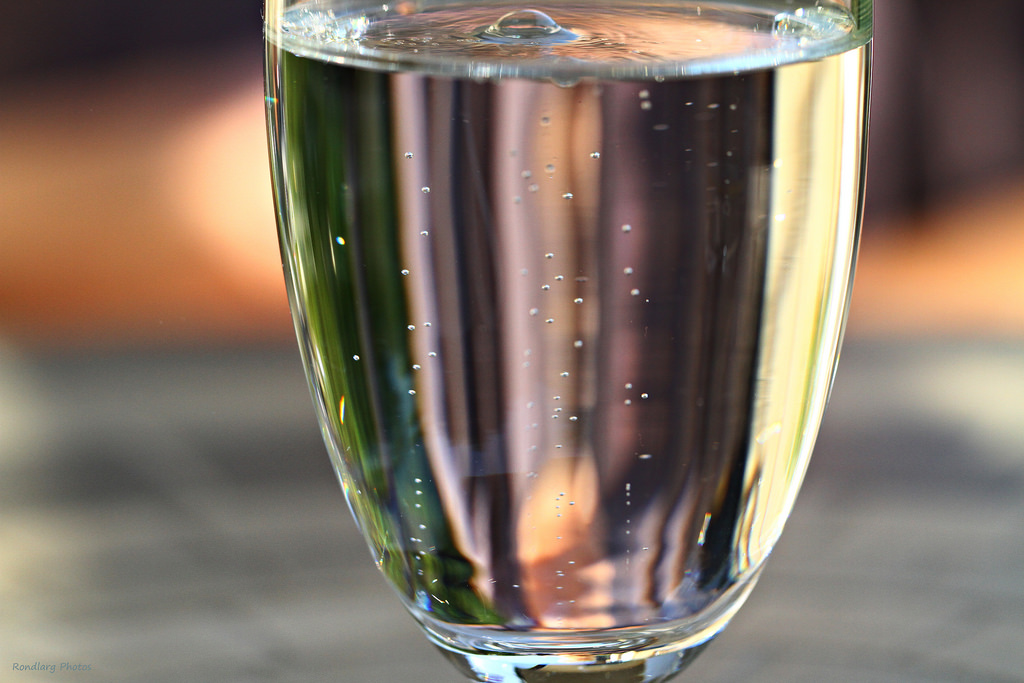glass of water: (263, 1, 875, 681)
